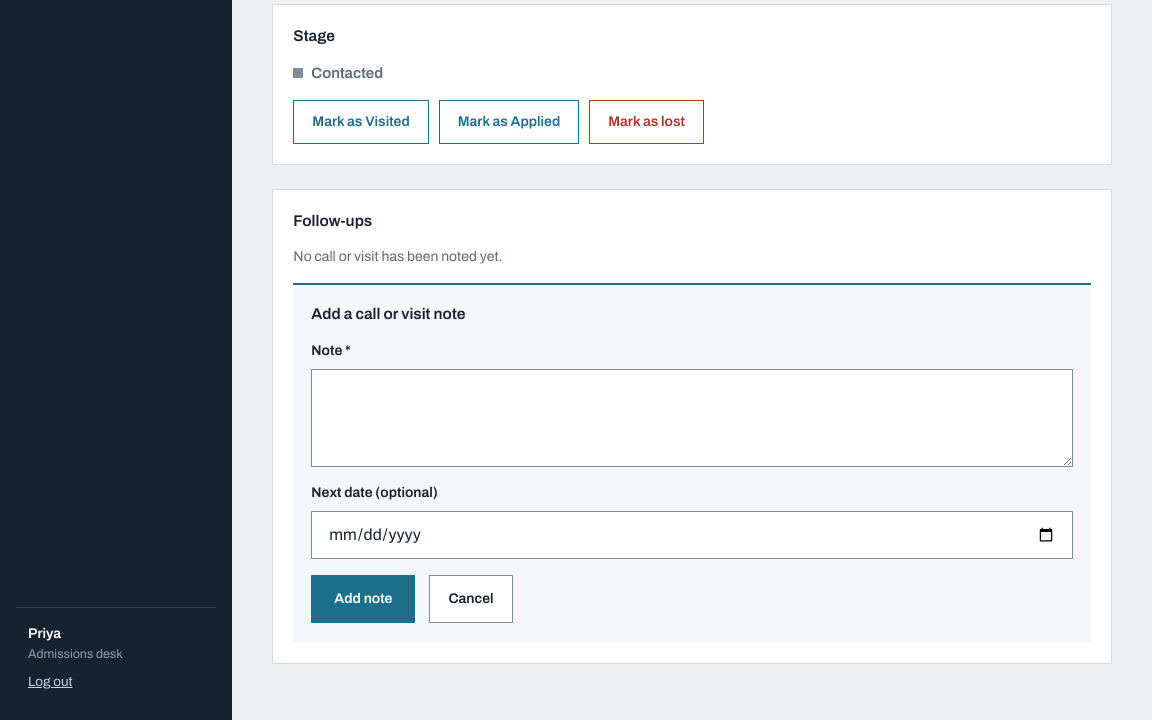
Test case: One enquiry › needs a note for a follow-up
(page scrolled)
Click the button "Add note".
click(363, 599)  # box [311,575,416,623]
(page scrolled)
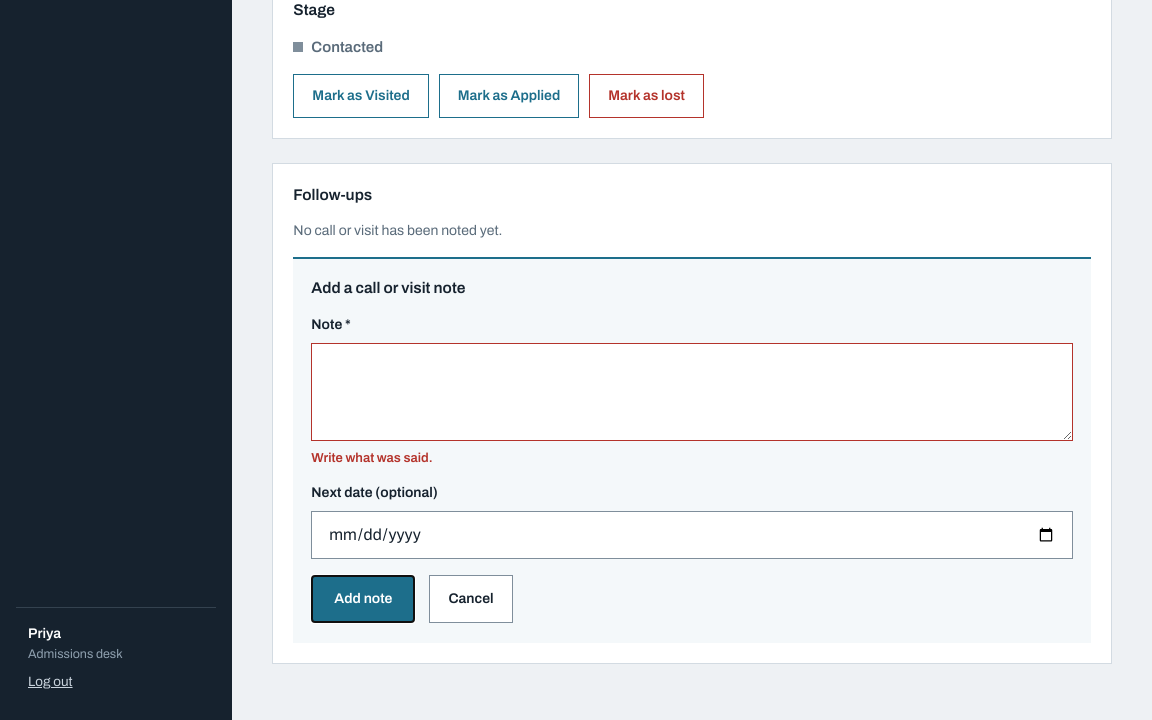
Expected: the text "Write what was said." is shown, [311,451,433,465]
